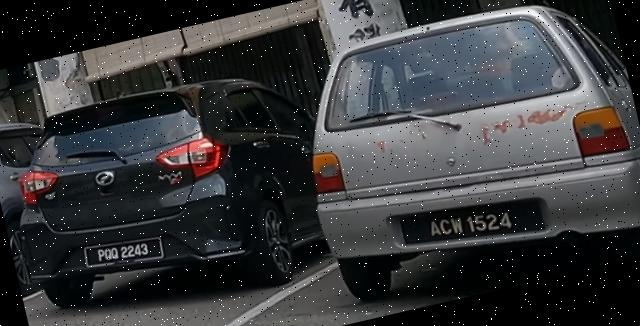License_Plate: (408, 190, 528, 255), (82, 229, 167, 277)
car: (281, 1, 640, 324), (1, 53, 350, 326)
